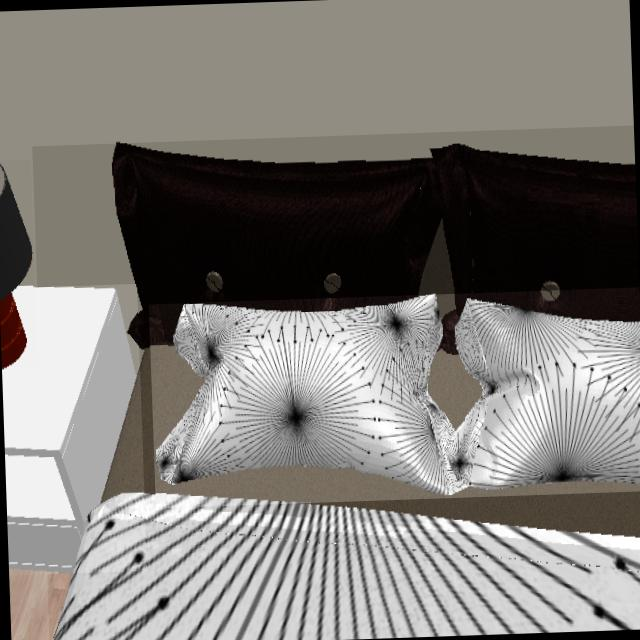bed: (52, 143, 640, 640)
lamp: (0, 167, 33, 367)
nighttable: (2, 288, 139, 574)
pillow: (154, 295, 640, 498)
